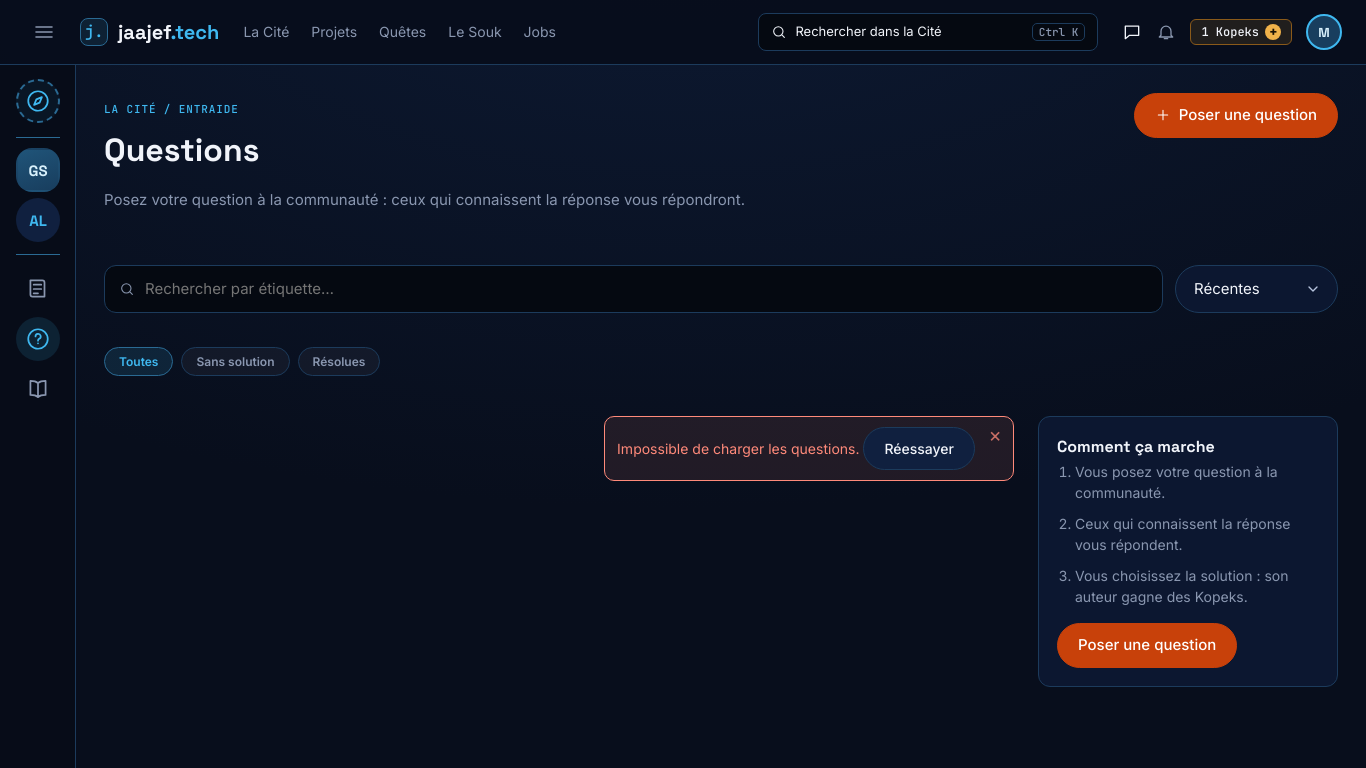
Test case: Questions list › shows a retry button when loading fails
Expected: the message shows "Impossible de charger", [617,440,860,457]
Click the button "Réessayer". click: (919, 448)
box: [863,427,975,470]
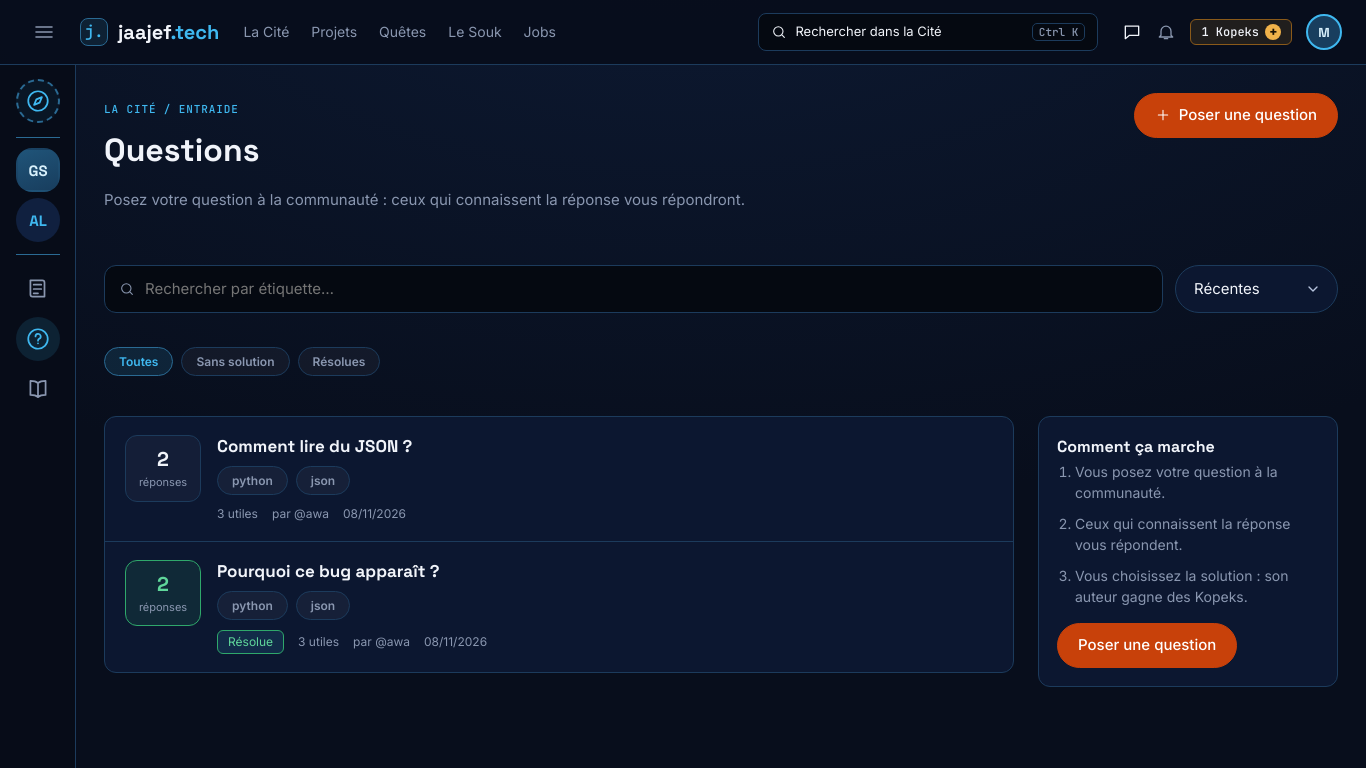
Expected: the link "Comment lire du JSON ?" is shown, [217,435,412,457]
